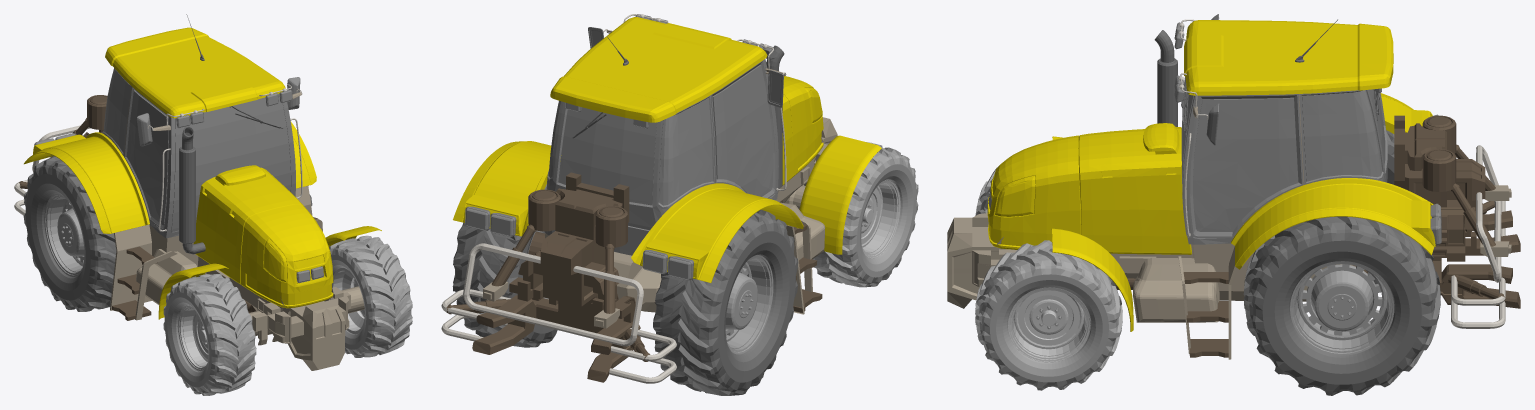
File: Tracktor.fbx
3 views of the same model, side by side, from view 1: azimuth 30°, elevation 25°; view 2: azimuth 150°, elevation 25°; view 3: azimuth 270°, elevation 25° (orthographic). The views are drawn at different scales.
Parts seen in each view (by area): view 1: subD_3, subD_4, subD_2, Non_subD_3, Non_subD, Non_subD_2, subDx, subD_7, subD_1, subDx_3, subD, subDx_2; view 2: subD_3, subD_4, Non_subD, subD_5, Non_subD_3, subD, subD_2, subD_1, subDx, subDx_3, subD_7; view 3: subD_3, subD_4, Non_subD, Non_subD_2, subD_2, subD_5, subDx, subD_1, subDx_2, subD, subD_7.
Part boxes in pixels (x1,y1,x2,y2): subD_3: (24,27,381,319); subD_4: (34,68,323,282); subD_2: (50,86,364,370); Non_subD_3: (163,274,256,395); Non_subD: (23,156,312,311); Non_subD_2: (329,235,412,357); subDx: (44,194,84,276); subD_7: (179,14,231,254); subD_1: (18,95,318,320); subDx_3: (177,305,208,371); subD: (14,84,302,231); subDx_2: (332,268,364,334); subD_3: (453,17,881,282); subD_4: (465,14,783,280); Non_subD: (452,164,798,395); subD_5: (472,172,640,382); Non_subD_3: (813,142,918,287); subD: (441,14,786,383); subD_2: (483,30,837,328); subD_1: (446,189,822,361); subDx: (528,230,773,354); subDx_3: (861,179,900,258); subD_7: (607,36,784,191); subD_3: (987,20,1435,331); subD_4: (988,14,1441,245); Non_subD: (1243,130,1440,395); Non_subD_2: (975,240,1122,390); subD_2: (947,94,1511,359); subD_5: (1394,115,1520,308); subDx: (1290,261,1394,355); subD_1: (1116,115,1505,357); subDx_2: (1008,287,1090,362); subD: (1178,19,1505,328); subD_7: (1154,19,1337,126).
Size of the model in its own units: 65.52 by 75.9 by 121.
